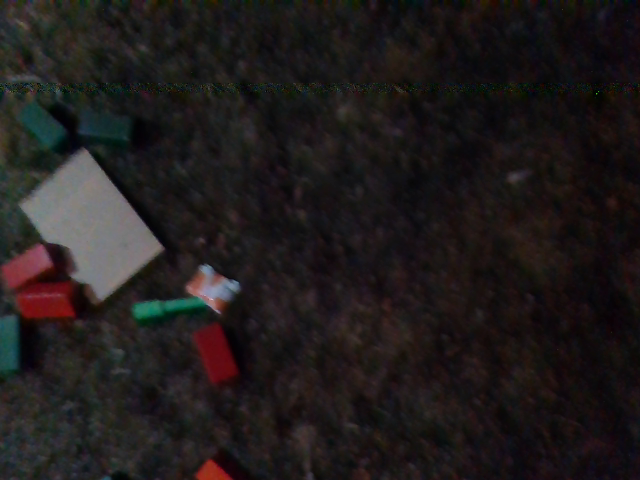Probe: (128, 289, 219, 321)
